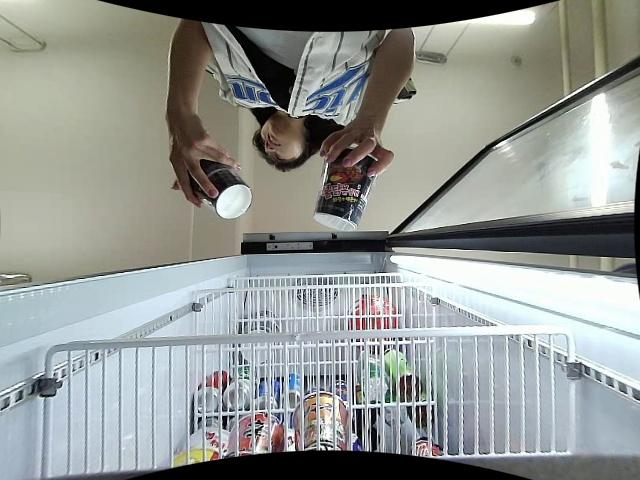00_hand: (169, 126, 243, 207), (316, 121, 394, 178)
08_buldak_S: (313, 146, 379, 231), (188, 161, 251, 220)
